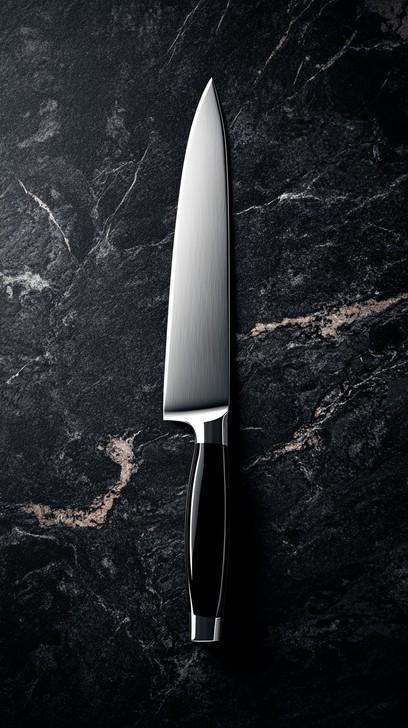Knife: (161, 76, 231, 642)
